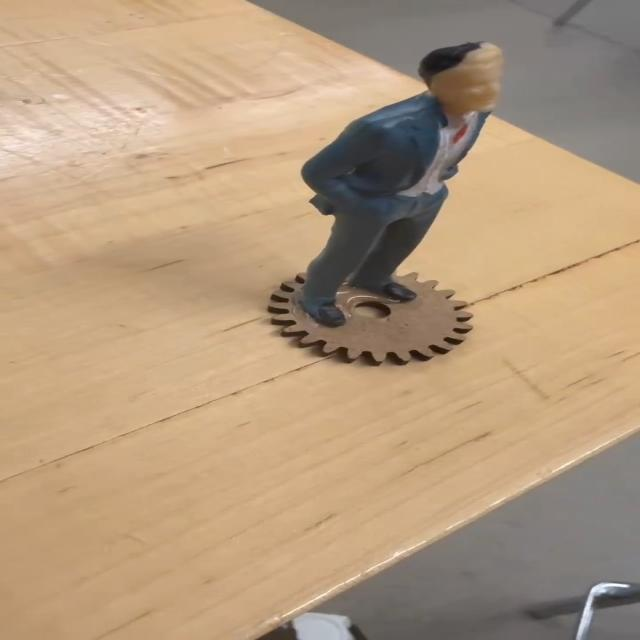Authorized: (276, 18, 508, 339)
